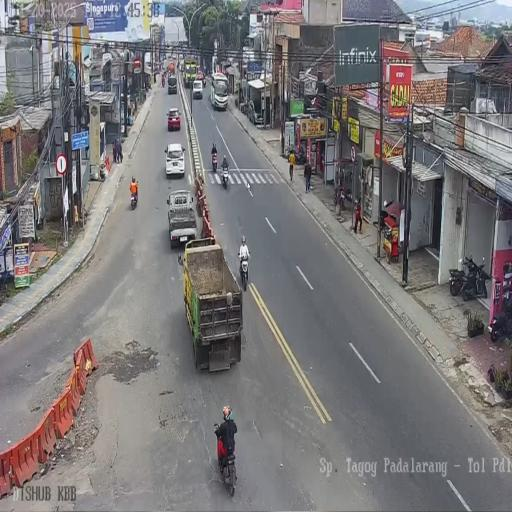3: (183, 238, 244, 372), (210, 72, 228, 111), (183, 56, 198, 86), (144, 51, 152, 78), (168, 60, 174, 74), (179, 58, 184, 72)
car: (167, 189, 197, 247), (165, 142, 185, 177), (167, 108, 181, 130), (193, 78, 203, 100), (168, 76, 177, 94)
truck: (449, 251, 490, 302), (214, 425, 238, 496), (490, 298, 512, 343), (286, 144, 306, 166), (239, 254, 249, 291), (221, 162, 229, 189), (130, 186, 138, 210), (240, 99, 250, 116), (211, 150, 218, 172), (161, 74, 165, 88)
